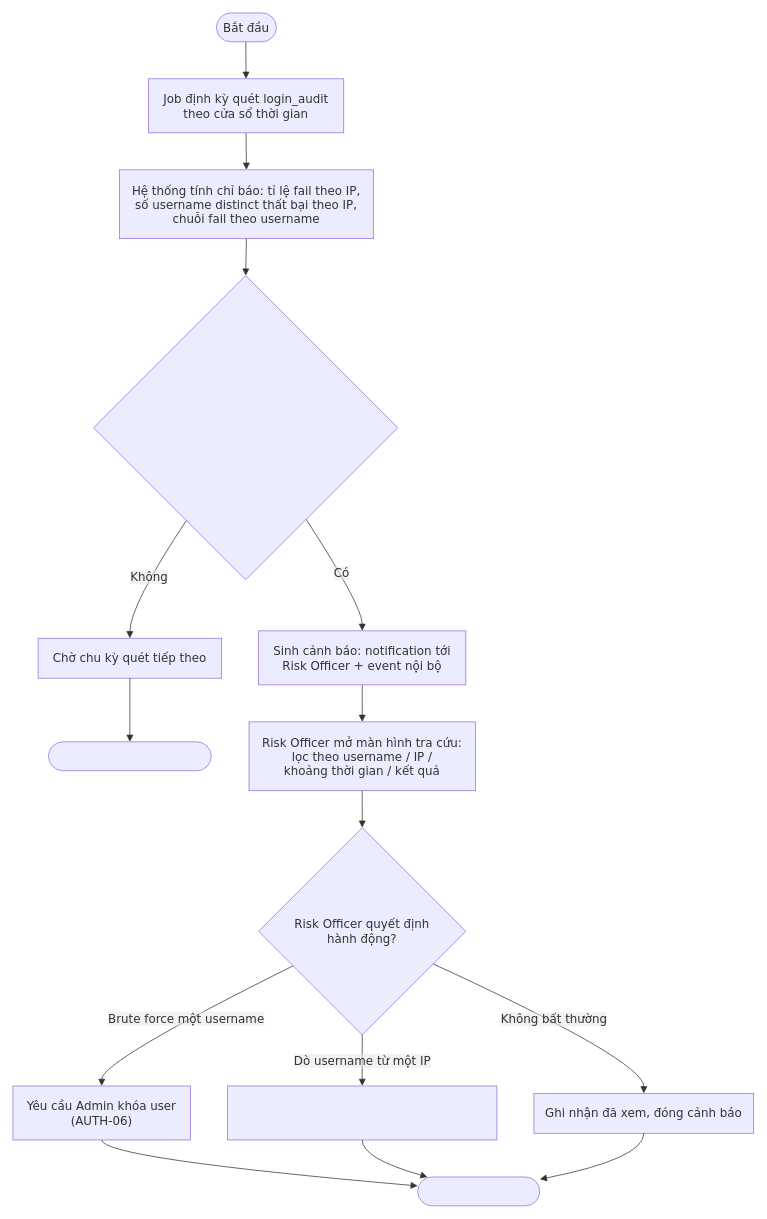
Some shapes in this 767 by 1219 pixel diagram are drawn without their labels. Each missing label, with the centre of its shape:
Chặn IP ở gateway (AUTH-09) — phạm vi đầu chỉ cần cảnh báo + khóa user: the point at 362,1112
Kết thúc — không cảnh báo: the point at 129,756
Kết thúc — đã xử lý: the point at 478,1191
Vượt ngưỡng cấu hình? (BR-AUTH-08-2 — không hardcode): the point at 245,427
